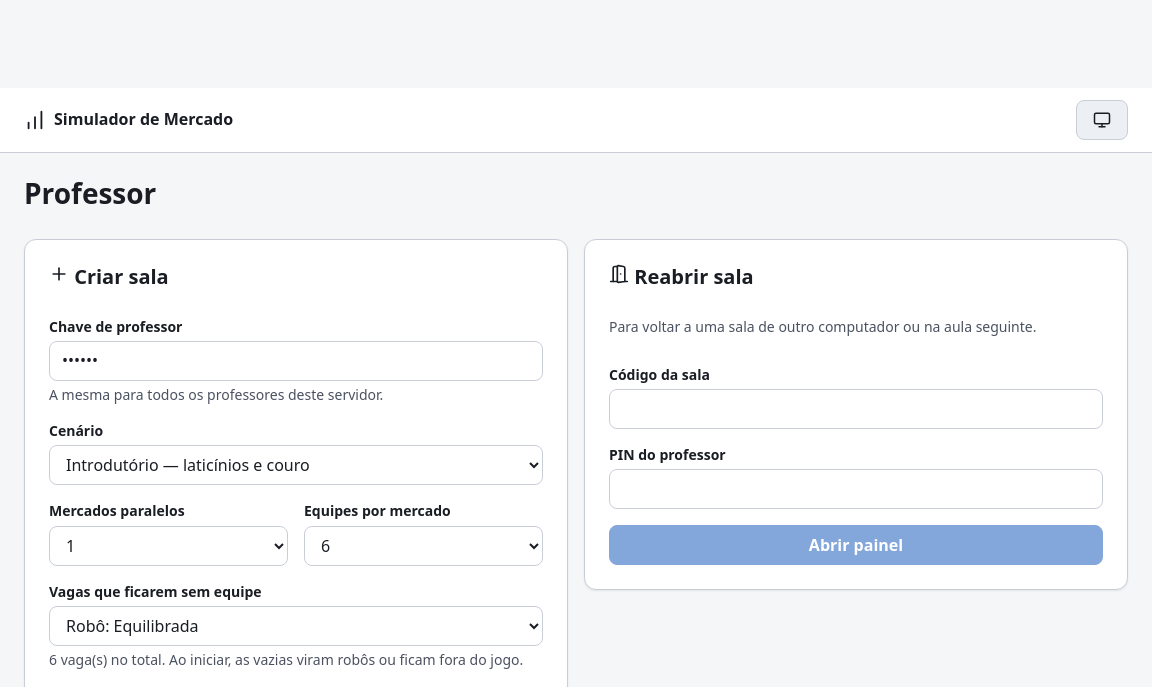
Scenario: criar e reabrir sala › criar: erro do servidor aparece e a tela fica
(page scrolled)
Type "errada" into the password field with id "chave". click: point(296, 361)
box: [49,341,543,381]
(page scrolled)
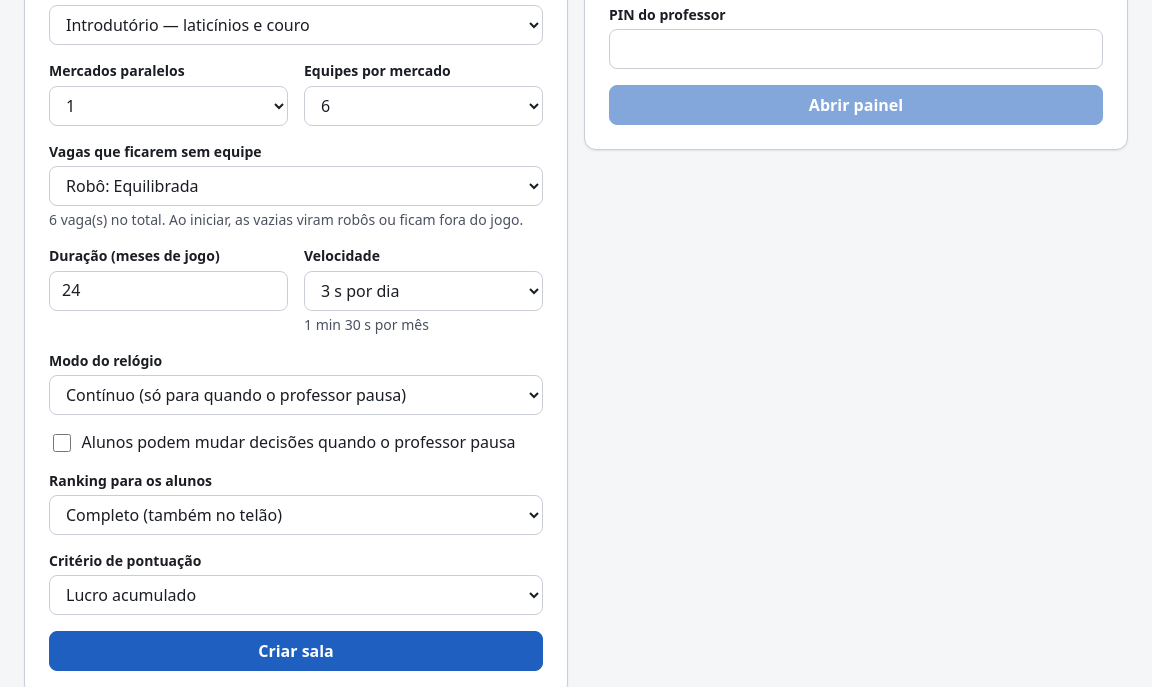
Click the button "Criar sala". click: point(296, 652)
box: [49,632,543,672]
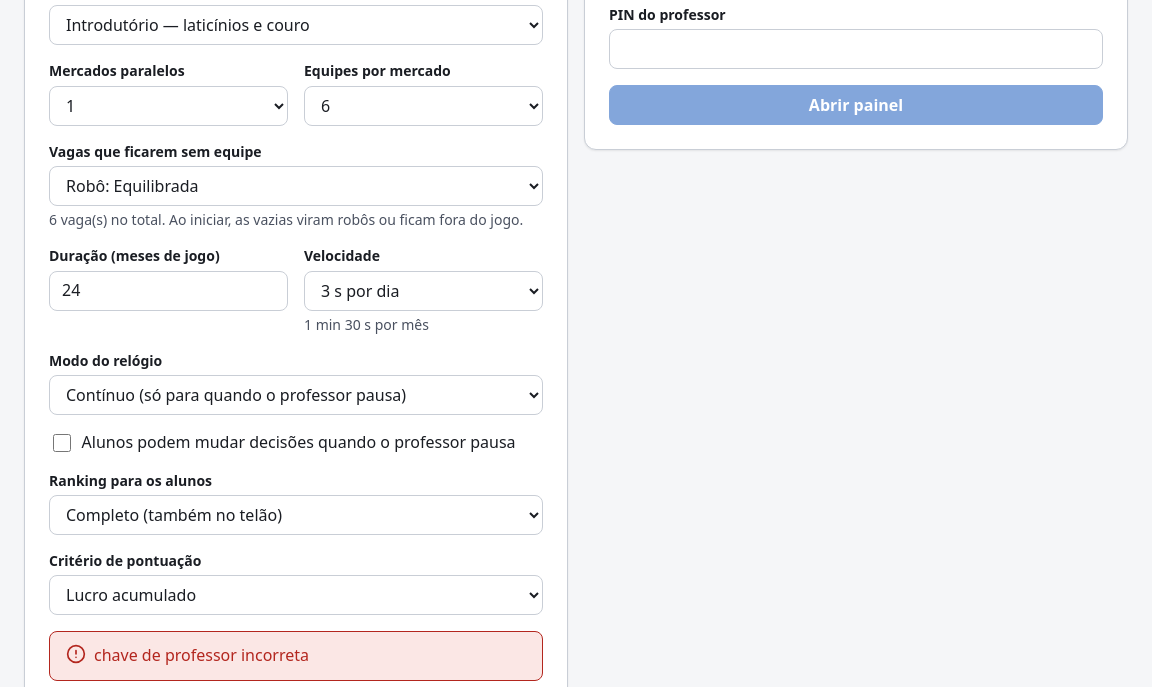
Check: the message "chave de professor incorreta" is shown, box [49,632,543,681]
